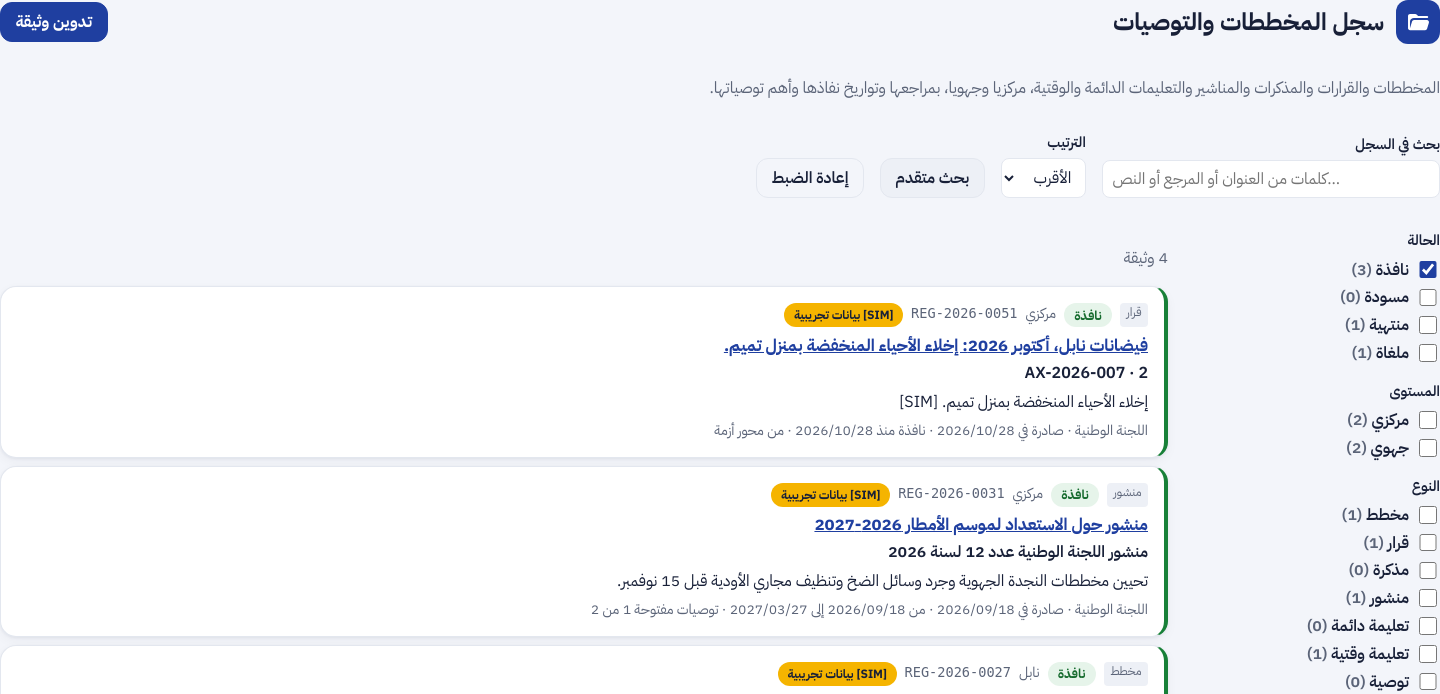
Test case: RegisterPage › asks for the end date of a temporary instruction
Click the button "تدوين وثيقة" at (54, 22), box [0,2,108,42]
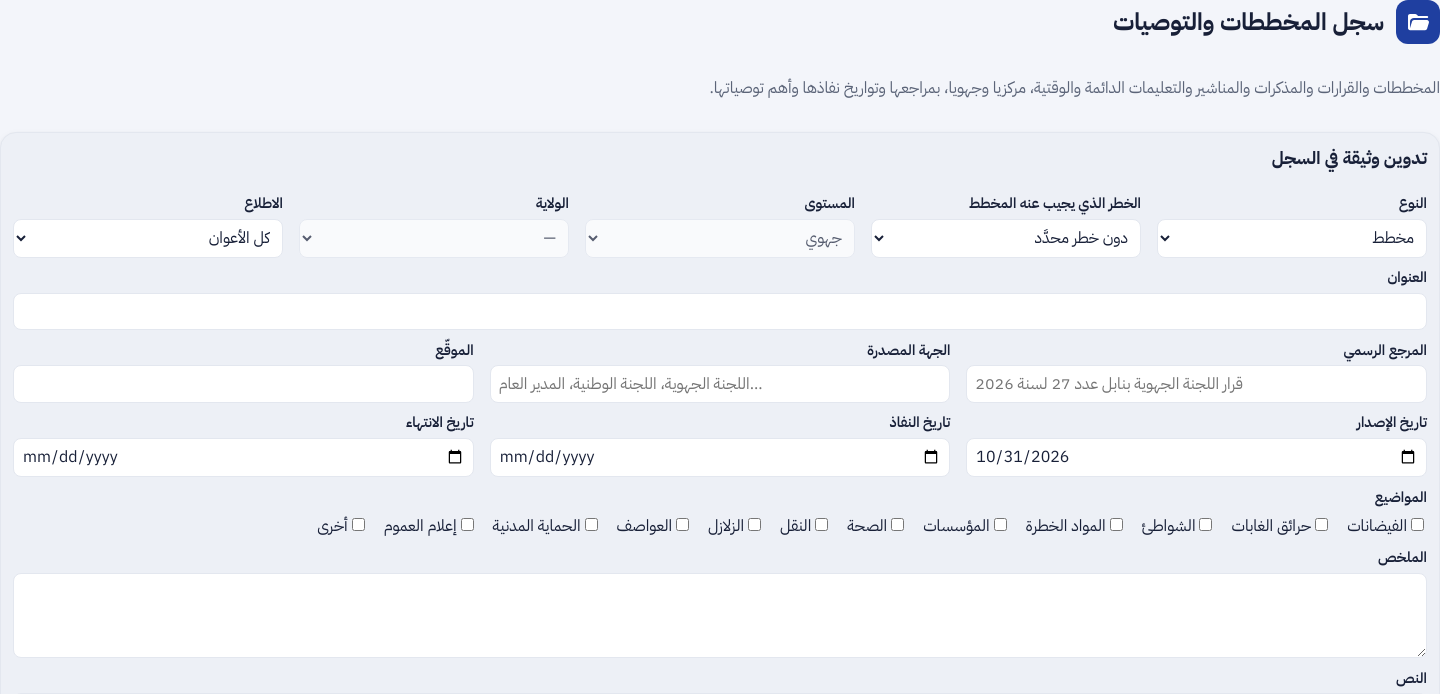
Select "تعليمة وقتية" in the dropdown labelled "النوع" at (1292, 238), box [1157,219,1427,258]
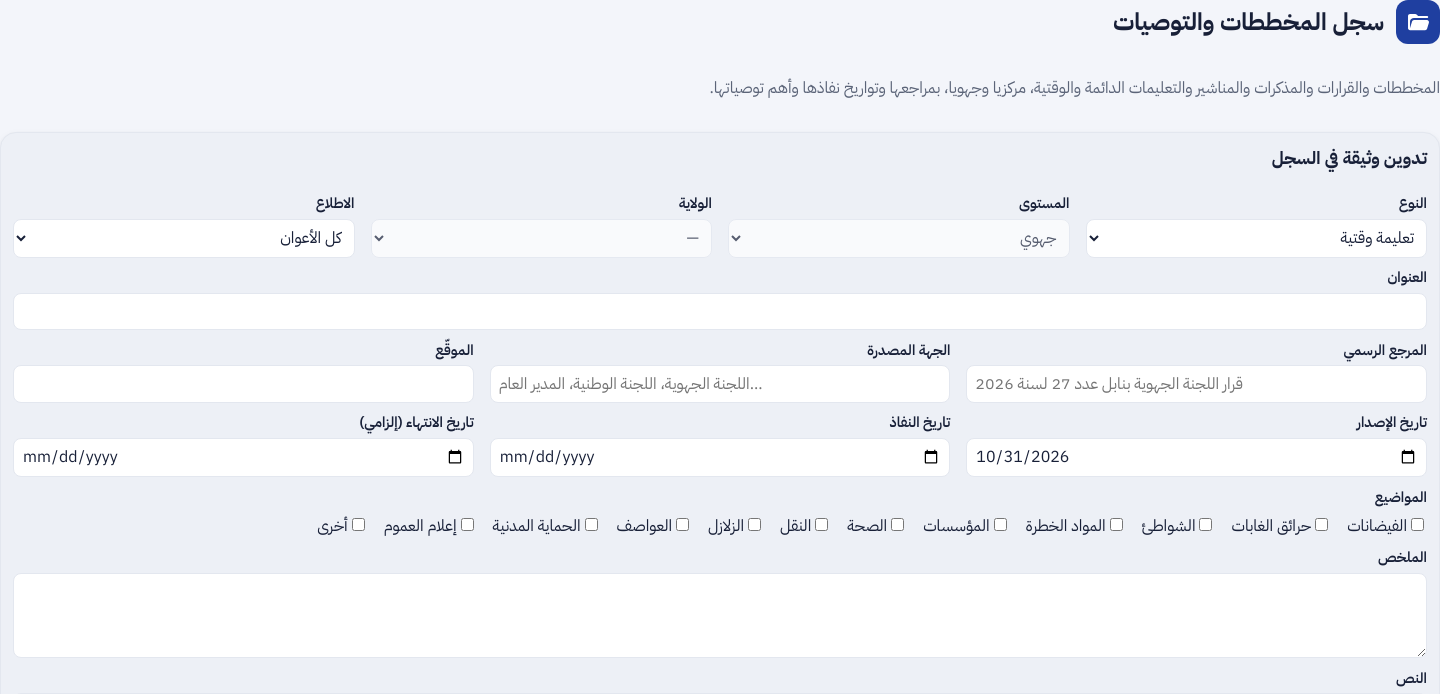
Type "منع السباحة" into the field labelled "العنوان" at (720, 312), box [13,293,1427,330]
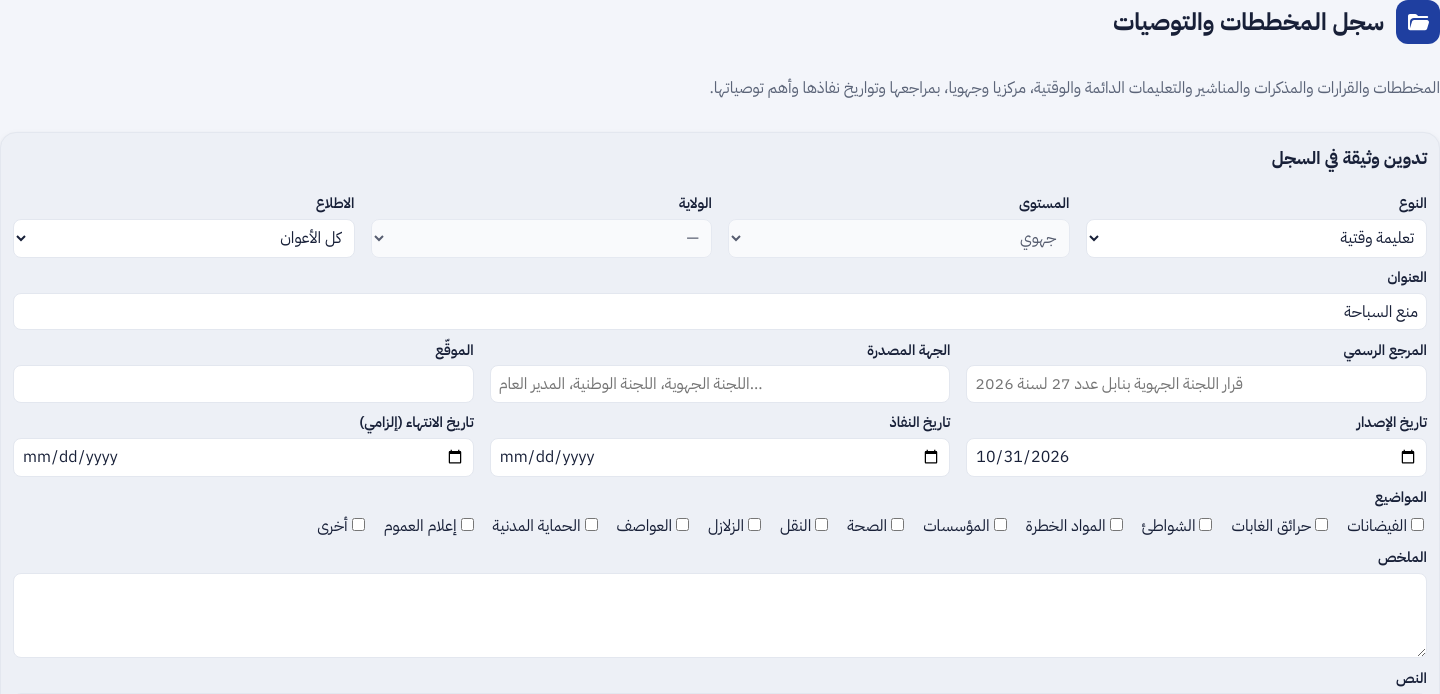
Type "المدير الجهوي" into the field labelled "الجهة المصدرة" at (720, 384), box [490,365,950,403]
(page scrolled)
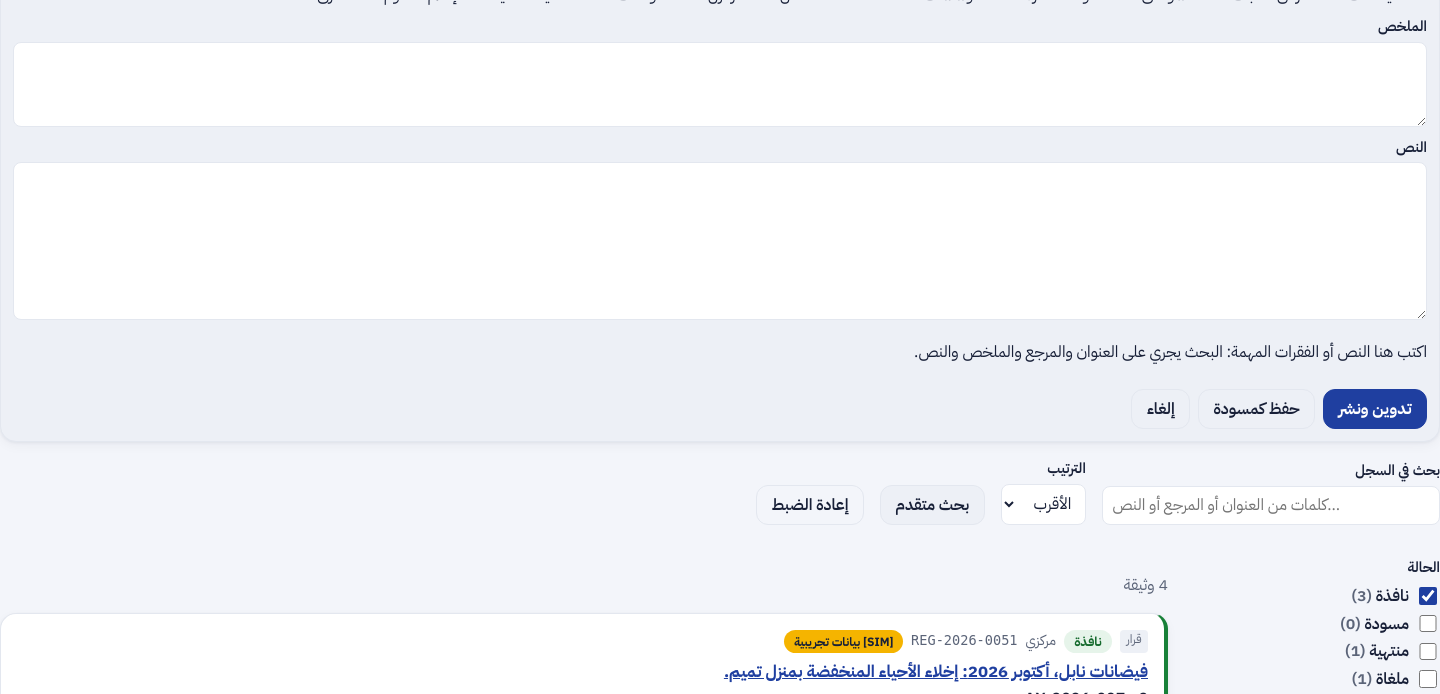
Click the button "تدوين ونشر" at (1375, 409), box [1323,389,1427,429]
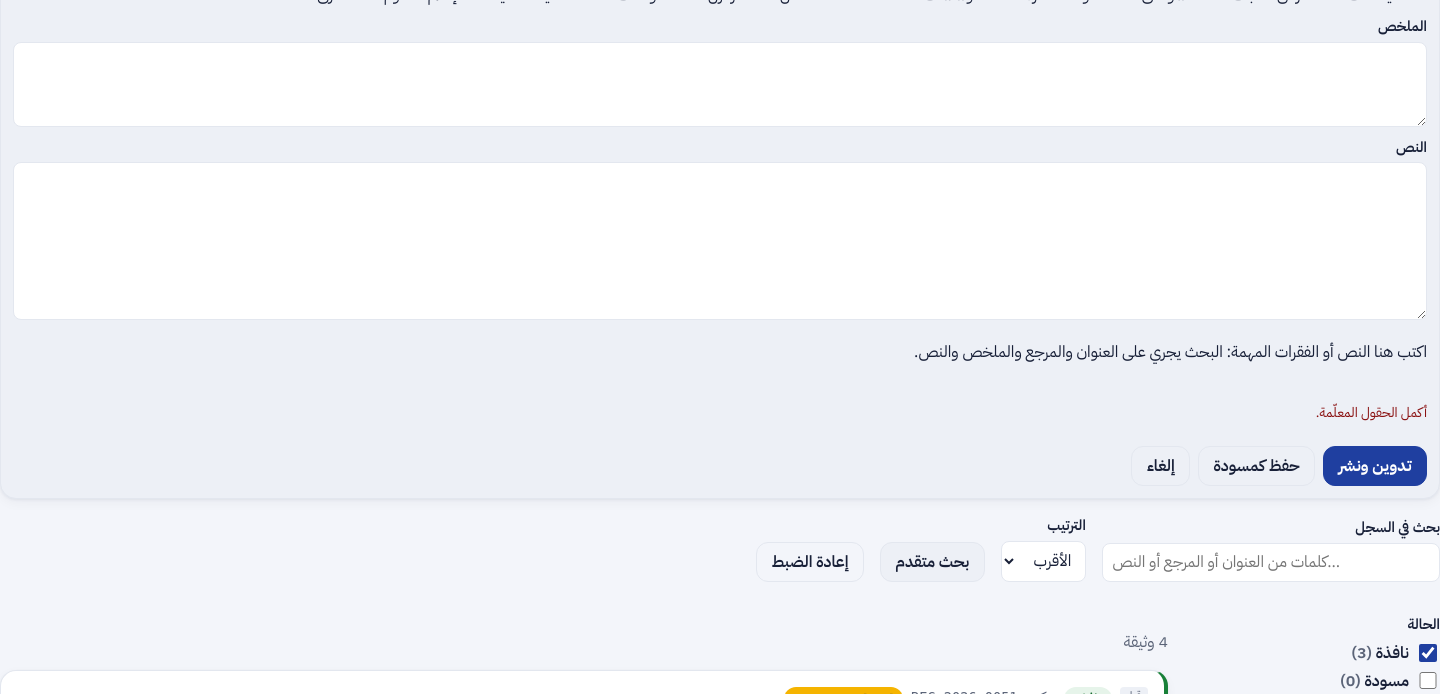
Result: the text "أكمل الحقول المعلّمة." is shown at [1316,402,1427,423]
